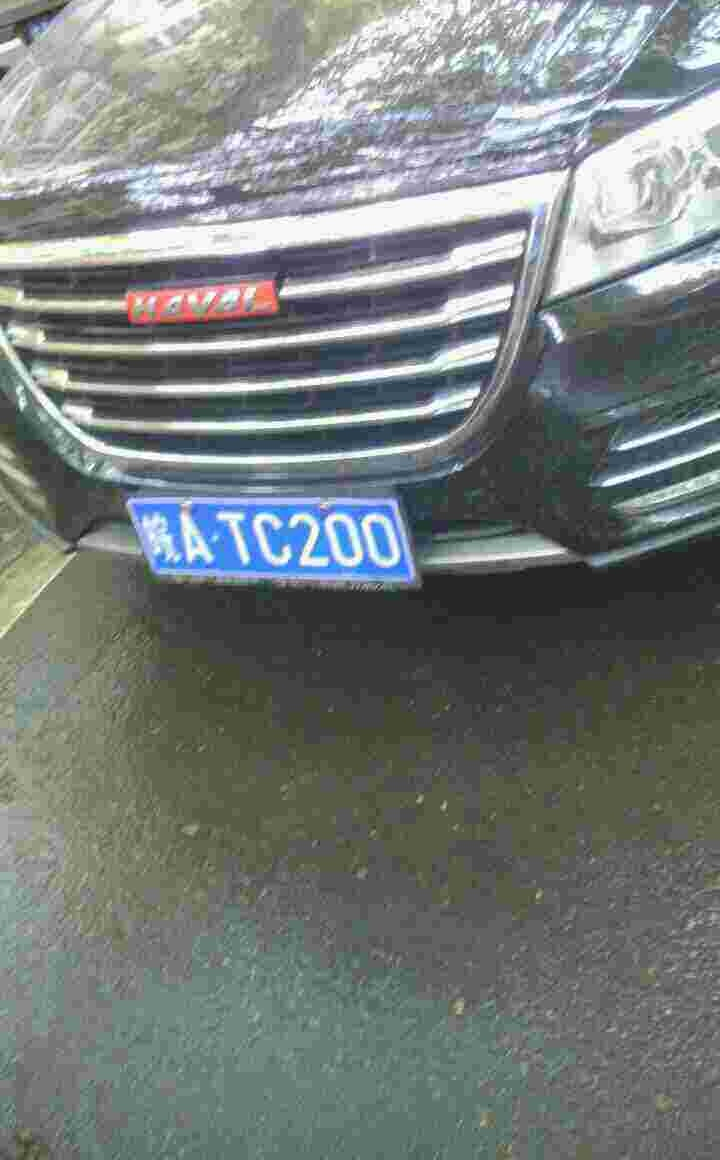license_plate: (133, 496, 414, 584)
